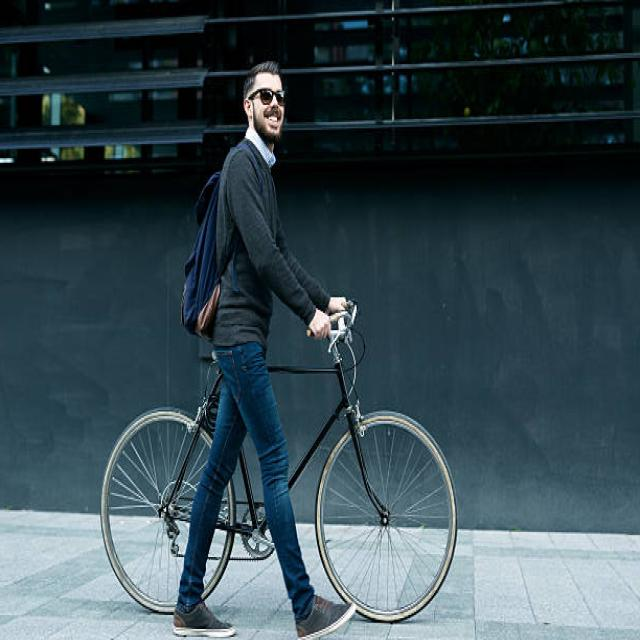bicycle: (101, 62, 456, 639)
